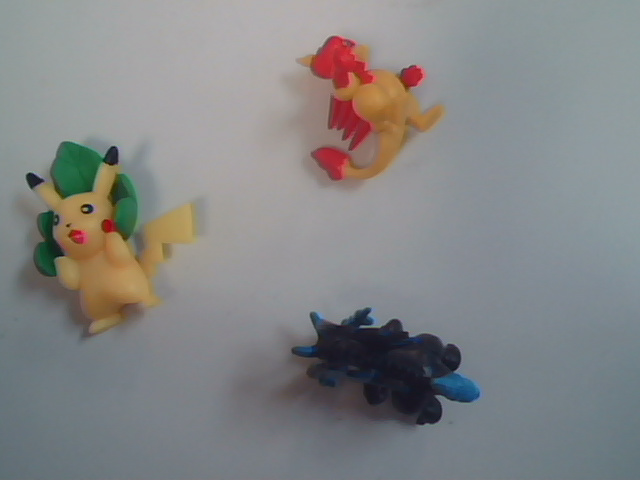charizard: (283, 268, 499, 480)
magmar: (261, 30, 483, 241)
pikachu: (8, 138, 240, 369)
